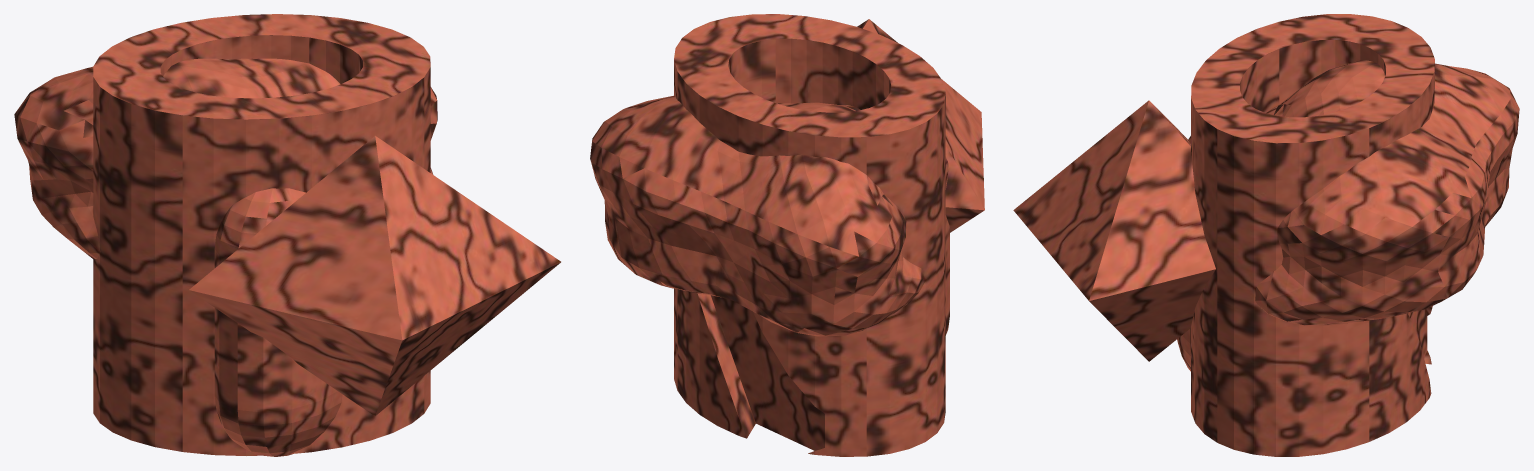
3 renders of one model, left to right at view 1: azimuth 30°, elevation 25°; view 2: azimuth 150°, elevation 25°; view 3: azimuth 270°, elevation 25°, orthographic. The views are drawn at different scales.
Parts seen in each view (by area): view 1: geometry_0; view 2: geometry_0; view 3: geometry_0.
Part boxes in pixels (x1,y1,x2,y2): geometry_0: (14,14,560,456); geometry_0: (590,14,984,456); geometry_0: (1013,14,1519,456).
Size of the model in its own units: 1.5 by 1.42 by 1.99.
1 material, 1 textured.
